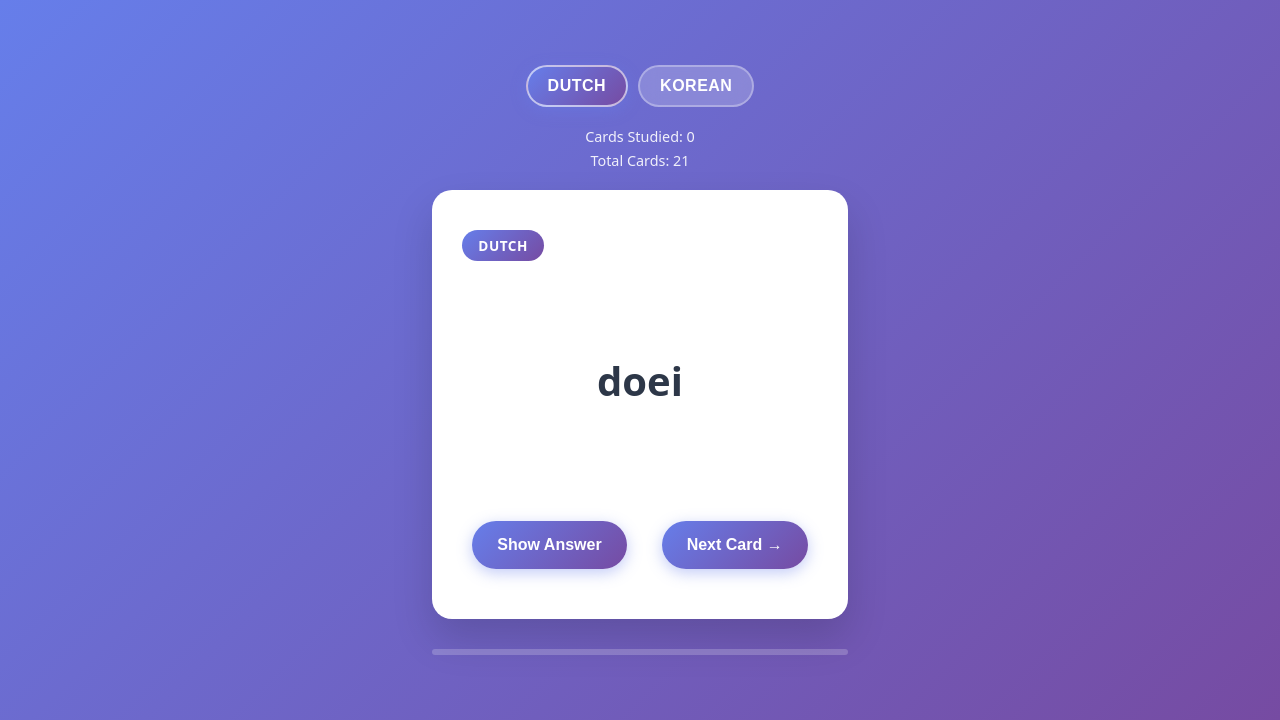
Test: Flashcard App › Language Switching › switches from Dutch to Korean
The width and height of the screenshot is (1280, 720).
Note: Switch to Korean
Click the button "Korean": [696, 86] box [638,65,754,107]
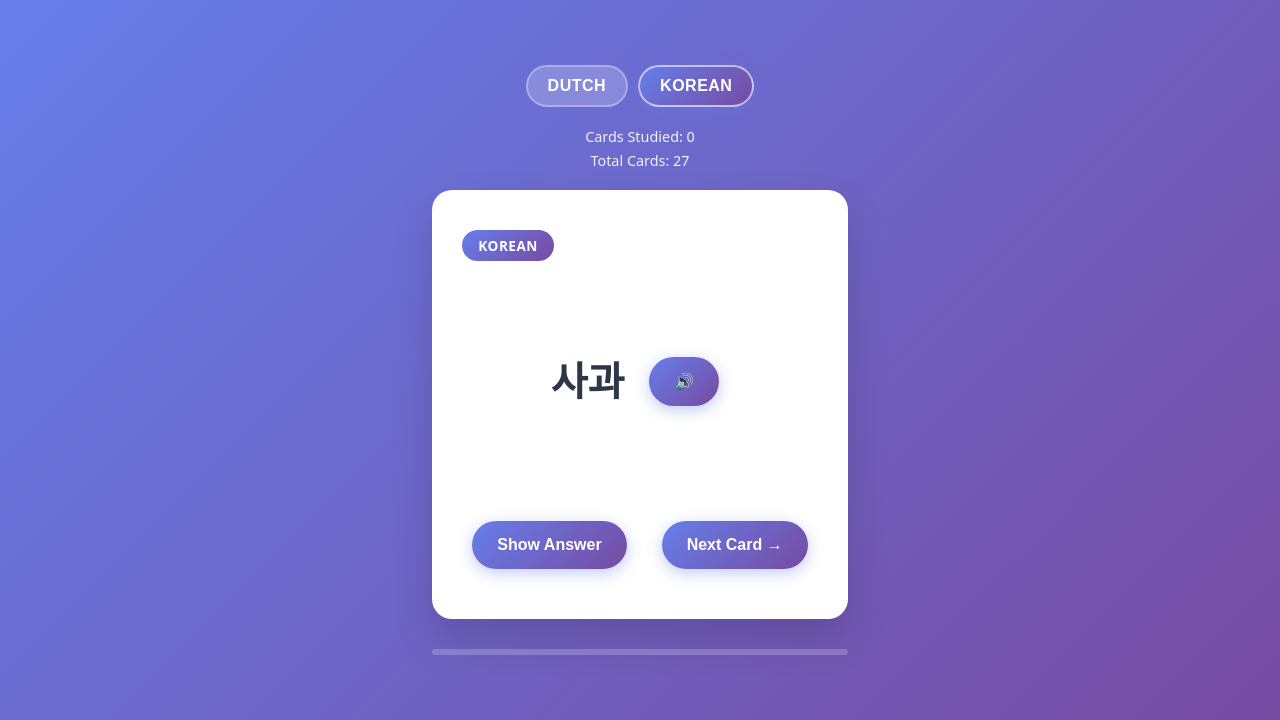
Expected: the text with class "language-tag" reads "Korean", [478,236,538,255]
Expected: the heading "doei" no longer shows "doei"
Note: Answer should be correct Korean translation
Click the button "Show Answer": [549, 545] box [472,521,627,569]
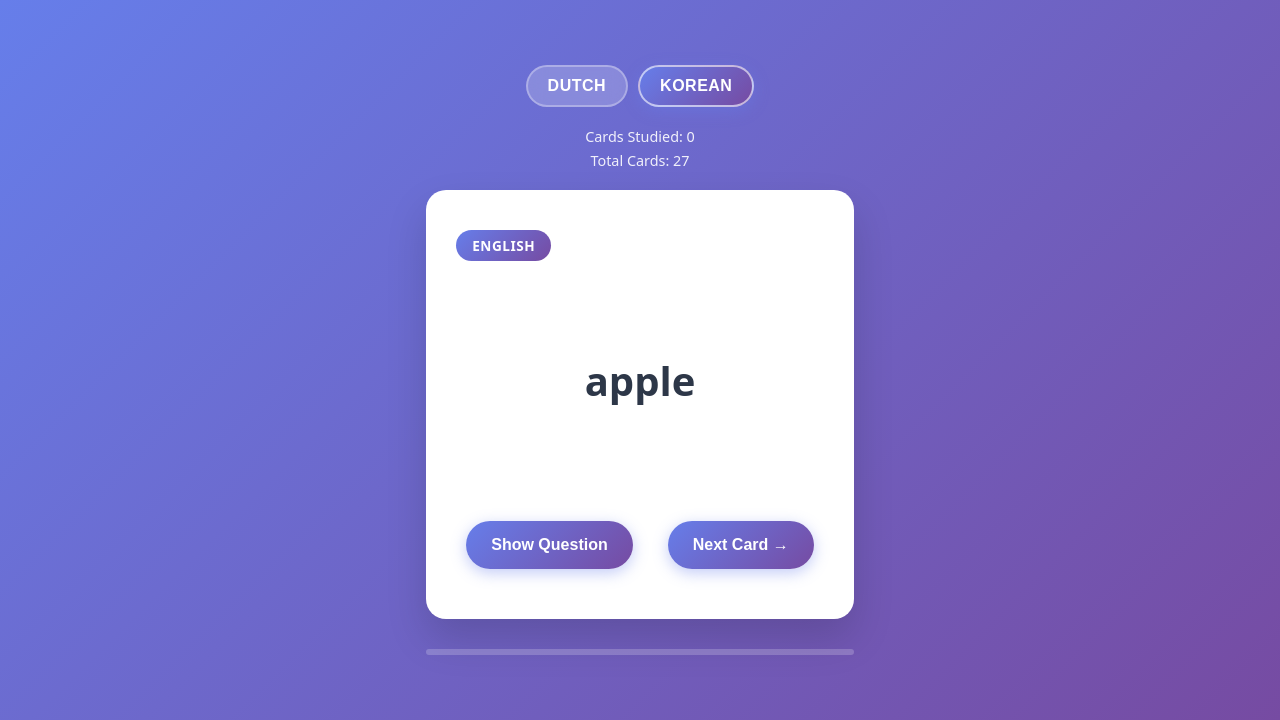
Expected: the heading reads "apple", [585,353,695,408]
